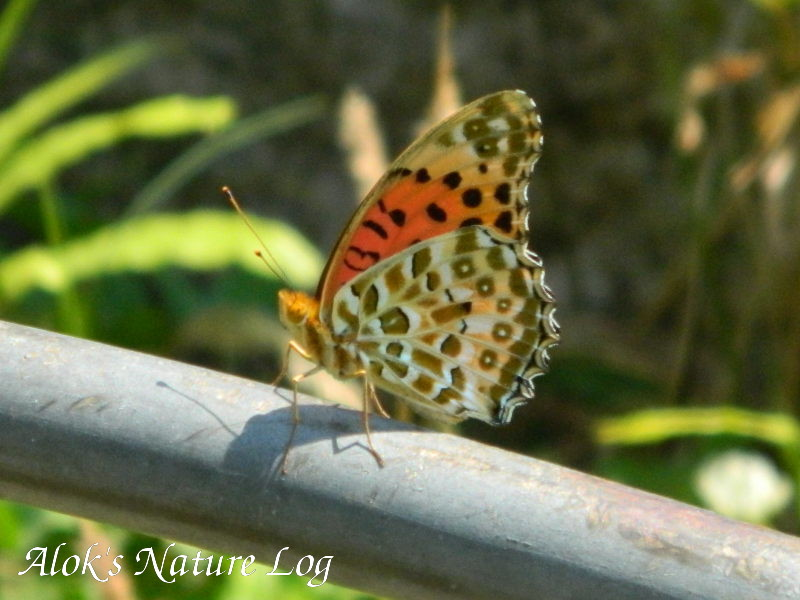Argyreus hyperbius: (215, 83, 574, 482)
butterfly: (217, 85, 576, 484)
